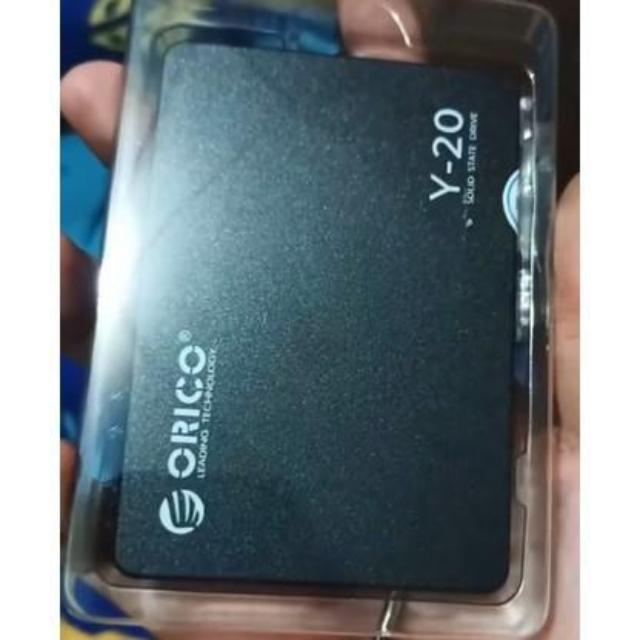DISK: (118, 17, 508, 600)
